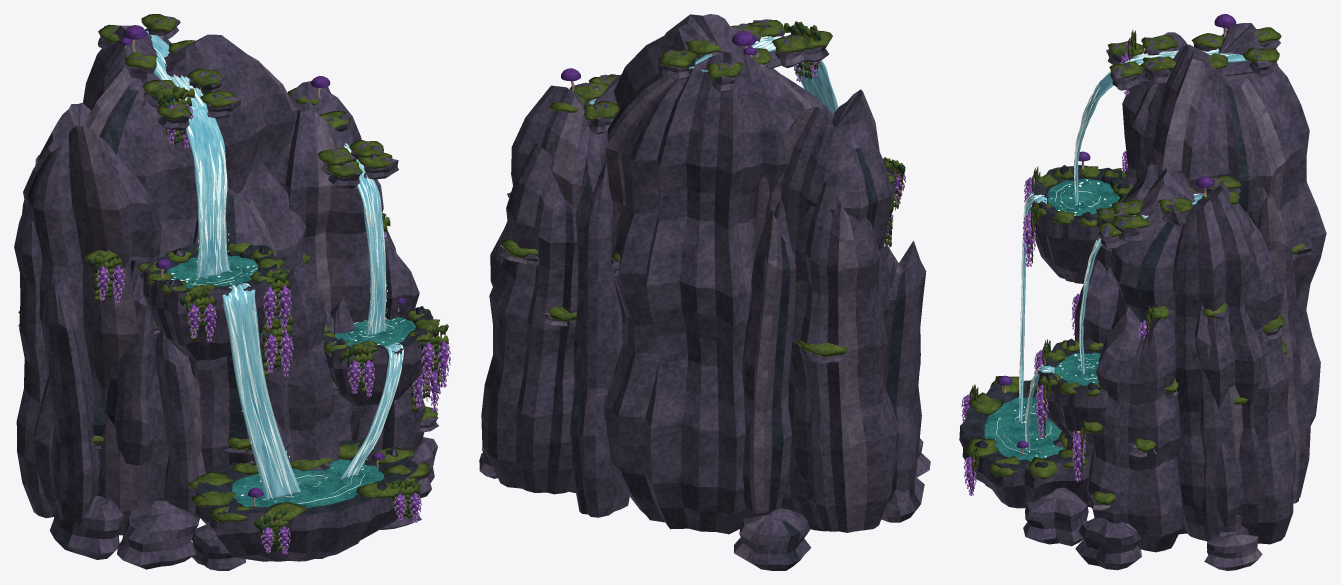
Rendered from waterfall_cliff_block.glb.
The picture shows the model from 3 angles, left to right: view 1: azimuth 30°, elevation 25°; view 2: azimuth 150°, elevation 25°; view 3: azimuth 270°, elevation 25°; orthographic projection. The views are drawn at different scales.
Parts seen in each view (by area): view 1: waterfall_cliff_block_cliff_violet, waterfall_cliff_block_moss, waterfall_cliff_block_cliff_facet, waterfall_cliff_block_river_sheet, waterfall_cliff_block_cliff_damp, waterfall_cliff_block_soft_foam, waterfall_cliff_block_river_pool, waterfall_cliff_block_petal, waterfall_cliff_block_flower, waterfall_cliff_block_leaf, waterfall_cliff_block_cap_light, waterfall_cliff_block_cap_deep; view 2: waterfall_cliff_block_cliff_violet, waterfall_cliff_block_cliff_facet, waterfall_cliff_block_cliff_damp, waterfall_cliff_block_moss, waterfall_cliff_block_river_sheet, waterfall_cliff_block_cap_deep; view 3: waterfall_cliff_block_cliff_violet, waterfall_cliff_block_moss, waterfall_cliff_block_cliff_facet, waterfall_cliff_block_cliff_damp, waterfall_cliff_block_river_pool, waterfall_cliff_block_river_sheet, waterfall_cliff_block_soft_foam, waterfall_cliff_block_petal, waterfall_cliff_block_flower, waterfall_cliff_block_cap_deep, waterfall_cliff_block_cap_light, waterfall_cliff_block_leaf.
Boxes of the visible parts, <box> form: waterfall_cliff_block_cliff_violet: <box>14,16,438,570</box>; waterfall_cliff_block_moss: <box>18,14,448,551</box>; waterfall_cliff_block_cliff_facet: <box>22,22,437,535</box>; waterfall_cliff_block_river_sheet: <box>146,31,403,501</box>; waterfall_cliff_block_cliff_damp: <box>27,20,433,552</box>; waterfall_cliff_block_soft_foam: <box>153,46,405,503</box>; waterfall_cliff_block_river_pool: <box>166,255,415,508</box>; waterfall_cliff_block_petal: <box>97,108,450,554</box>; waterfall_cliff_block_flower: <box>98,103,447,552</box>; waterfall_cliff_block_leaf: <box>88,86,447,547</box>; waterfall_cliff_block_cap_light: <box>96,106,450,553</box>; waterfall_cliff_block_cap_deep: <box>120,25,406,497</box>; waterfall_cliff_block_cliff_violet: <box>479,14,930,570</box>; waterfall_cliff_block_cliff_facet: <box>479,14,895,568</box>; waterfall_cliff_block_cliff_damp: <box>571,25,920,570</box>; waterfall_cliff_block_moss: <box>500,19,902,357</box>; waterfall_cliff_block_river_sheet: <box>589,37,838,113</box>; waterfall_cliff_block_cap_deep: <box>561,31,756,81</box>; waterfall_cliff_block_cliff_violet: <box>959,23,1326,570</box>; waterfall_cliff_block_moss: <box>966,27,1305,505</box>; waterfall_cliff_block_cliff_facet: <box>1043,36,1299,568</box>; waterfall_cliff_block_cliff_damp: <box>960,85,1249,508</box>; waterfall_cliff_block_river_pool: <box>984,178,1119,461</box>; waterfall_cliff_block_river_sheet: <box>1020,47,1261,451</box>; waterfall_cliff_block_soft_foam: <box>995,48,1235,457</box>; waterfall_cliff_block_petal: <box>961,56,1149,495</box>; waterfall_cliff_block_flower: <box>964,42,1146,493</box>; waterfall_cliff_block_cap_deep: <box>997,14,1236,448</box>; waterfall_cliff_block_cap_light: <box>961,56,1141,495</box>; waterfall_cliff_block_leaf: <box>969,30,1152,487</box>.
Size of the model in its own units: 40.11 by 48 by 35.69.
Materials: 18 (18 with a texture image).
